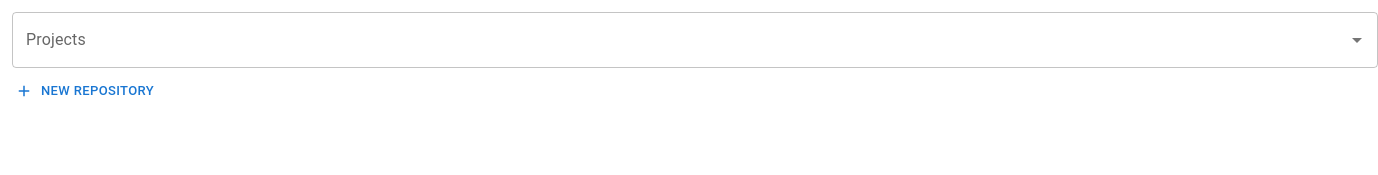
Scenario: ProjectPicker › disables a blocked entry and shows why
The width and height of the screenshot is (1378, 175).
Click the dropdown labelled "Projects": (680, 40) [21,21,1339,59]
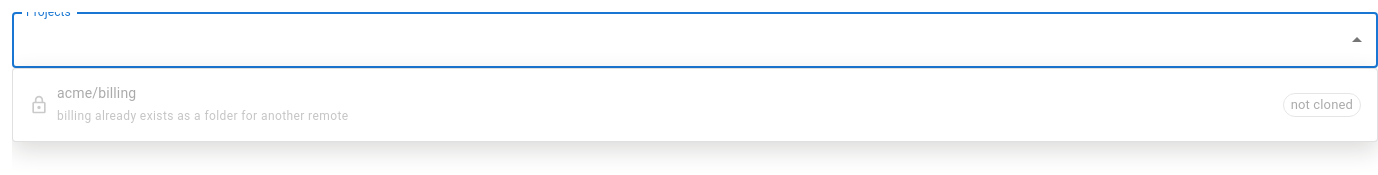
Now the text "billing already exists as a folder for another remote" is shown, box [57,109,348,123]
